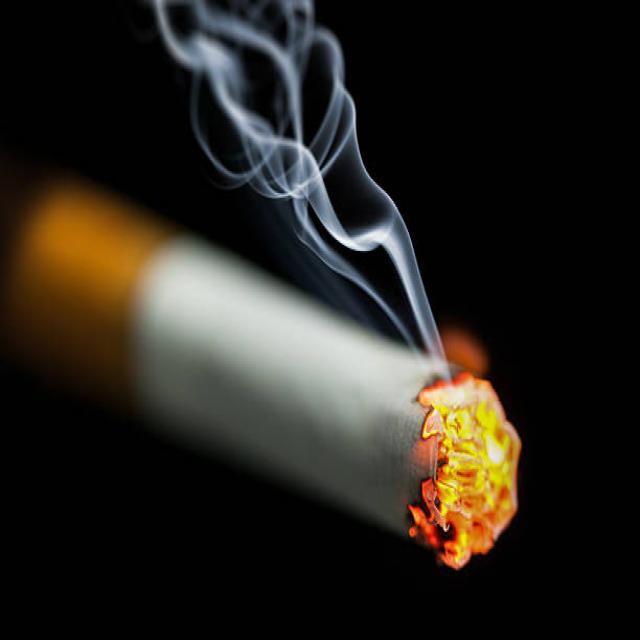Cigarette: (40, 180, 537, 583)
